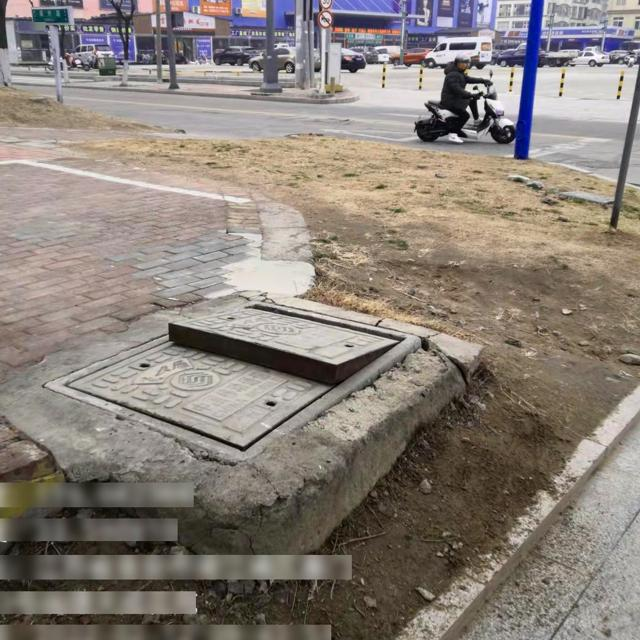uncovered: (129, 269, 450, 395)
